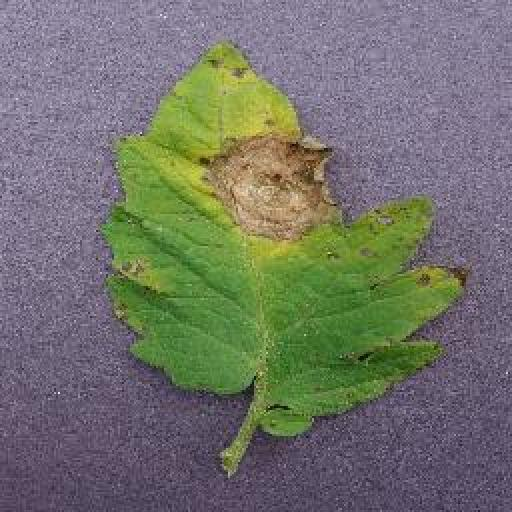Septoria: (100, 40, 472, 437)
